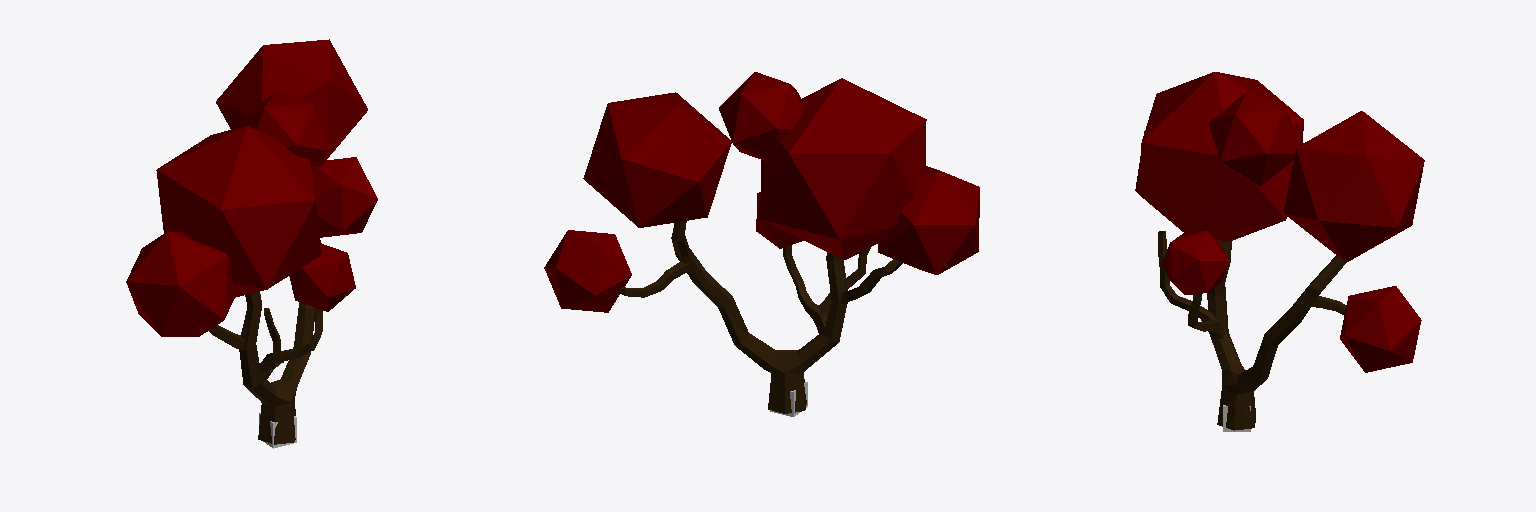
Rendered from treev3.obj.
The picture shows the model from 3 angles: view 1: azimuth 30°, elevation 25°; view 2: azimuth 150°, elevation 25°; view 3: azimuth 270°, elevation 25°; orthographic projection.
Parts seen in each view (by area): view 1: Tree_lp_11; view 2: Tree_lp_11; view 3: Tree_lp_11.
Part boxes in pixels (x1,y1,x2,y2): Tree_lp_11: (126, 39, 377, 444); Tree_lp_11: (544, 72, 979, 413); Tree_lp_11: (1135, 72, 1424, 430).
Bounding box in the file's own units: 27.98 × 26.8 × 20.8.